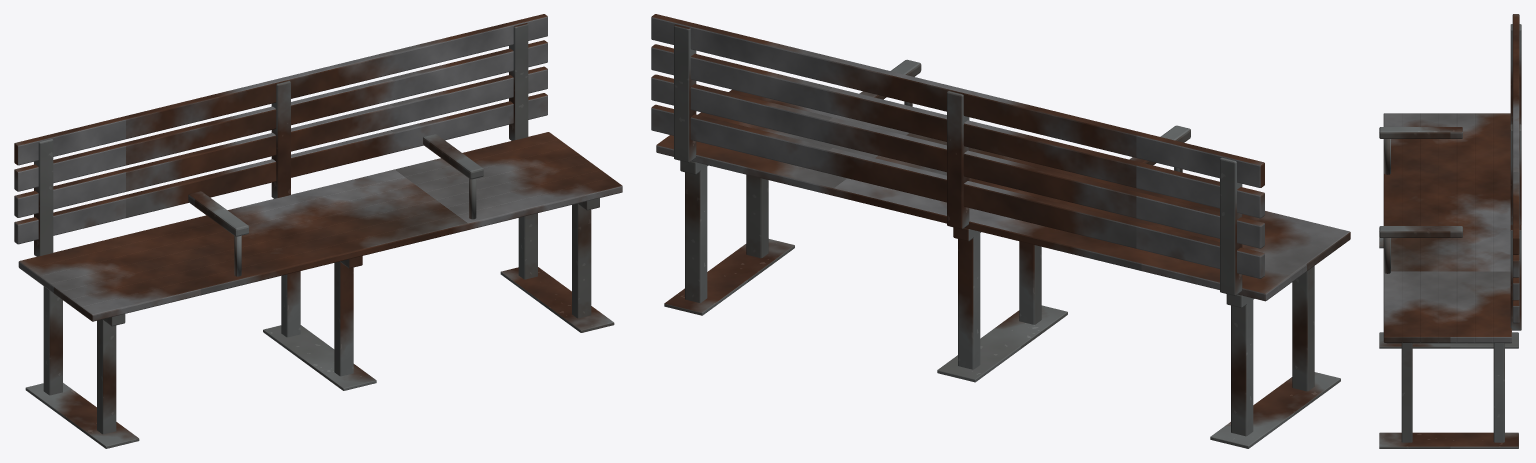
File: R02_platform_bench.glb
3 views of the same model, side by side, from view 1: azimuth 30°, elevation 25°; view 2: azimuth 150°, elevation 25°; view 3: azimuth 270°, elevation 25° (orthographic). The views are drawn at different scales.
Parts seen in each view (by area): view 1: R02_platform_bench; view 2: R02_platform_bench; view 3: R02_platform_bench.
Boxes of the visible parts, bbox=[...] form: R02_platform_bench: bbox=[14, 14, 622, 448]; R02_platform_bench: bbox=[651, 14, 1350, 448]; R02_platform_bench: bbox=[1379, 14, 1521, 448].
Size of the model in its own units: 2 by 0.9 by 0.5368.
2 materials, 2 textured.
